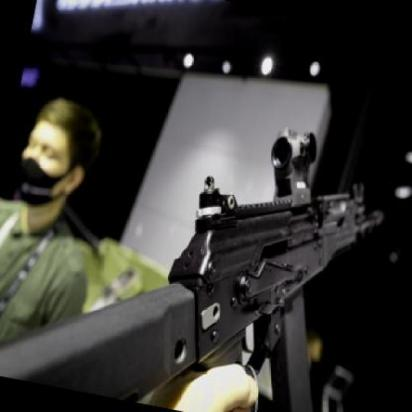Gun: (0, 54, 412, 412)
